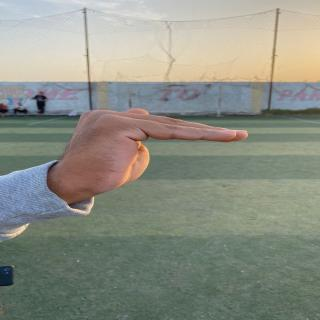KHAA: (34, 102, 272, 202)
